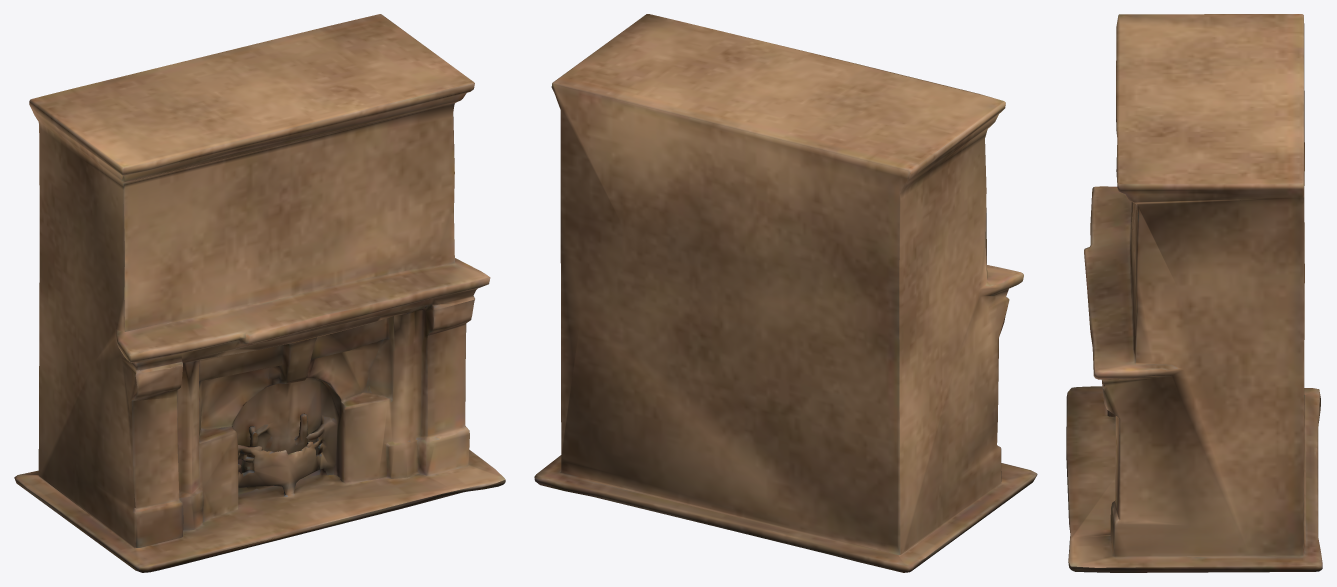
The model's file is worn-sandstone-fireplace-v001.glb.
3 views of the same model, side by side, from view 1: azimuth 30°, elevation 25°; view 2: azimuth 150°, elevation 25°; view 3: azimuth 270°, elevation 25° (orthographic). The views are drawn at different scales.
Visible parts, largest first — view 1: worn-sandstone-fireplace; view 2: worn-sandstone-fireplace; view 3: worn-sandstone-fireplace.
Boxes of the visible parts, box(x1,y1,x2,y2) form: worn-sandstone-fireplace: box(14, 14, 505, 572); worn-sandstone-fireplace: box(534, 14, 1037, 572); worn-sandstone-fireplace: box(1066, 14, 1322, 572).
Bounding box in the file's own units: 1.39 × 1.4 × 0.8393.
1 material, 1 textured.
